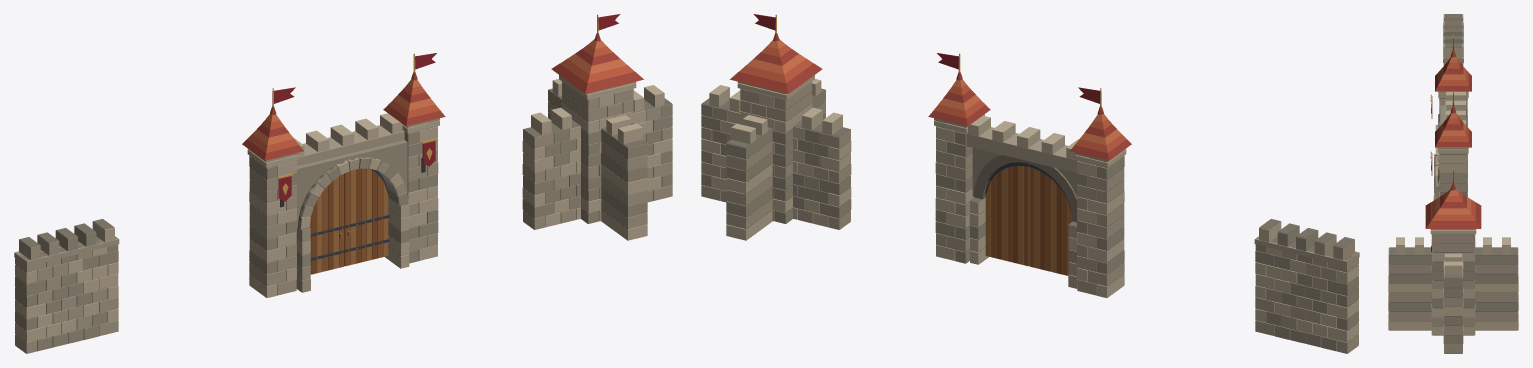
File: muralhas-nivel-4.glb
3 views of the same model, side by side, from view 1: azimuth 30°, elevation 25°; view 2: azimuth 150°, elevation 25°; view 3: azimuth 270°, elevation 25° (orthographic). The views are drawn at different scales.
Visible parts, largest first — view 1: tower_4_c3b49a, gate_4_c3b49a, gate_4_b1a38d, tower_4_a09682, tower_4_b1a38d, gate_4_a09682, wall_4_b1a38d, wall_4_a09682, wall_4_c3b49a, right_4_9c6237, tower_4_82796a, gate_4_9e4235 (+13 smaller); view 2: tower_4_c3b49a, gate_4_b1a38d, gate_4_c3b49a, tower_4_a09682, tower_4_b1a38d, wall_4_b1a38d, gate_4_a09682, wall_4_a09682, wall_4_c3b49a, gate_4_82796a, right_4_9c6237, left_4_9c6237 (+12 smaller); view 3: tower_4_b1a38d, tower_4_c3b49a, tower_4_a09682, tower_4_82796a, gate_4_c3b49a, gate_4_9e4235, tower_4_9e4235, gate_4_b1a38d, gate_4_b9583c, tower_4_b9583c, gate_4_c66c49, wall_4_82796a (+6 smaller).
Part boxes in pixels (x1,y1,x2,y2): tower_4_c3b49a: [522, 75, 672, 240]; gate_4_c3b49a: [247, 113, 439, 297]; gate_4_b1a38d: [248, 118, 439, 295]; tower_4_a09682: [522, 88, 672, 223]; tower_4_b1a38d: [522, 81, 672, 229]; gate_4_a09682: [249, 120, 438, 274]; wall_4_b1a38d: [14, 232, 119, 353]; wall_4_a09682: [15, 225, 118, 351]; wall_4_c3b49a: [15, 218, 118, 342]; right_4_9c6237: [344, 168, 382, 266]; tower_4_82796a: [523, 88, 671, 240]; gate_4_9e4235: [242, 72, 445, 160]; tower_4_c3b49a: [701, 75, 851, 240]; gate_4_b1a38d: [934, 114, 1125, 295]; gate_4_c3b49a: [934, 115, 1126, 297]; tower_4_a09682: [701, 88, 851, 223]; tower_4_b1a38d: [701, 81, 851, 229]; wall_4_b1a38d: [1254, 232, 1359, 353]; gate_4_a09682: [935, 120, 1124, 274]; wall_4_a09682: [1255, 225, 1358, 351]; wall_4_c3b49a: [1255, 218, 1358, 342]; gate_4_82796a: [936, 128, 1123, 297]; right_4_9c6237: [991, 166, 1029, 266]; left_4_9c6237: [1029, 167, 1067, 275]; tower_4_b1a38d: [1388, 229, 1518, 353]; tower_4_c3b49a: [1388, 230, 1518, 335]; tower_4_a09682: [1388, 248, 1518, 344]; tower_4_82796a: [1389, 234, 1517, 353]; gate_4_c3b49a: [1434, 91, 1468, 200]; gate_4_9e4235: [1435, 50, 1471, 147]; tower_4_9e4235: [1425, 184, 1481, 228]; gate_4_b1a38d: [1433, 91, 1468, 200]; gate_4_b9583c: [1438, 60, 1468, 141]; tower_4_b9583c: [1431, 191, 1475, 220]; gate_4_c66c49: [1441, 57, 1465, 135]; wall_4_82796a: [1444, 14, 1462, 58].
Bounding box in the file's own units: 27.99 × 8.29 × 6.02.
